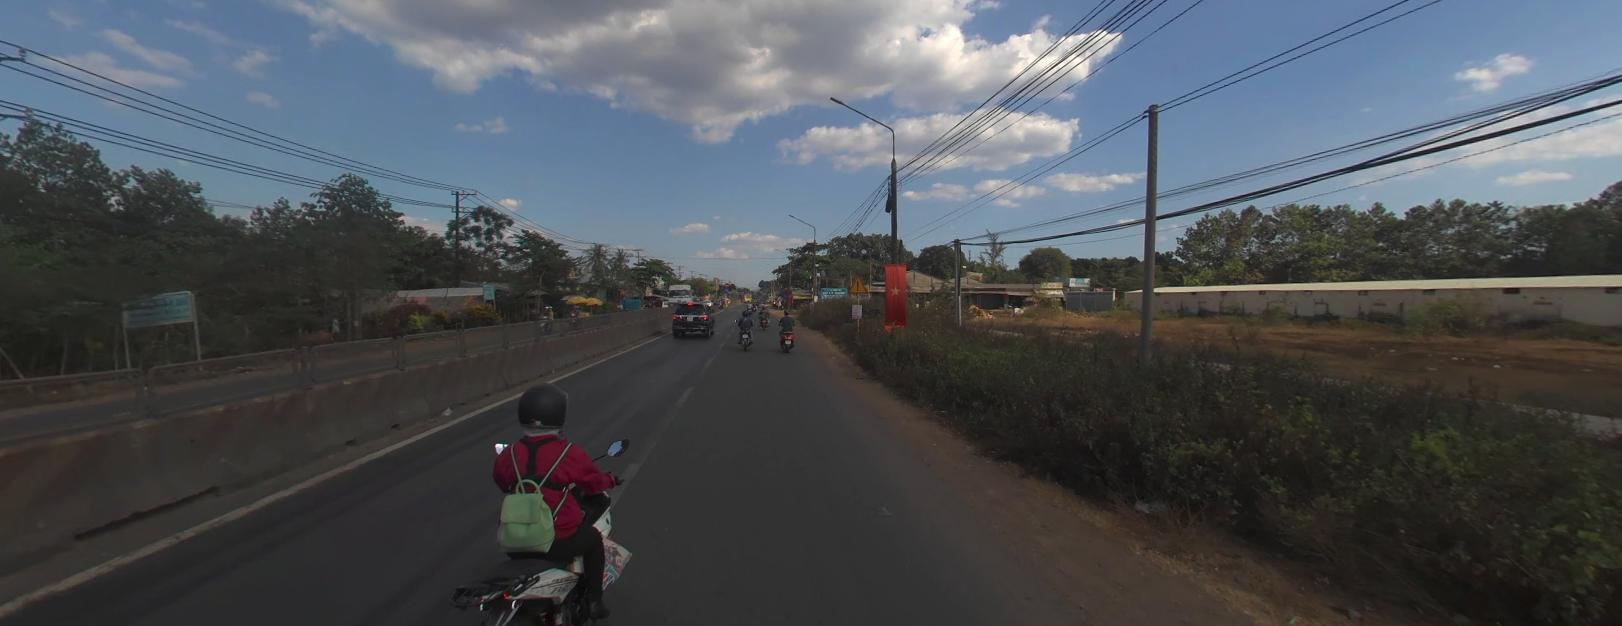Cam nguoc chieu: (723, 282, 728, 286), (724, 281, 729, 285), (724, 282, 728, 286)
Hieu lenh: (723, 287, 728, 291), (724, 287, 728, 291), (724, 286, 728, 290)
Nguy hiem: (847, 275, 868, 293), (847, 273, 867, 291), (849, 274, 868, 292)
